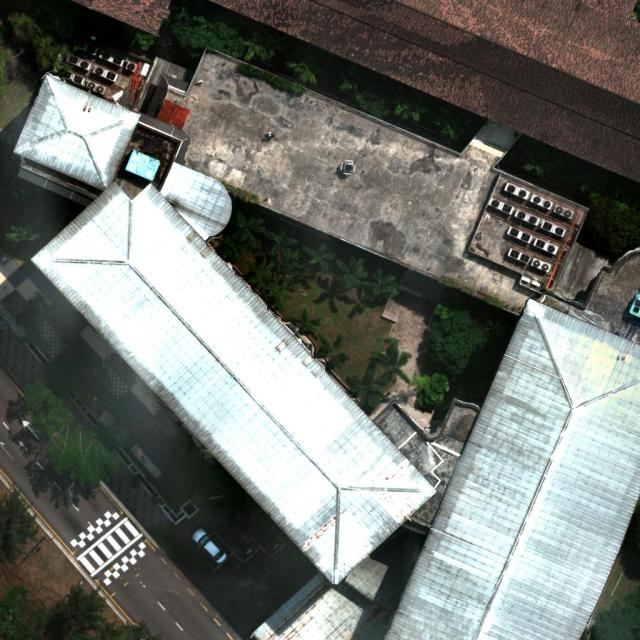Tree: (24, 378, 124, 490), (169, 0, 244, 59), (428, 304, 490, 374), (4, 186, 61, 248), (585, 196, 640, 256), (338, 61, 391, 118), (0, 583, 53, 640), (0, 488, 36, 566), (55, 583, 107, 632), (346, 366, 394, 412), (64, 618, 164, 640), (369, 338, 412, 386), (389, 82, 432, 124), (285, 43, 325, 88), (230, 209, 266, 250), (434, 106, 476, 140), (314, 332, 350, 370), (415, 372, 453, 407), (31, 31, 65, 70), (1, 158, 32, 200), (522, 138, 554, 178), (236, 31, 272, 64), (554, 146, 586, 182), (334, 258, 370, 290), (5, 11, 43, 41), (362, 268, 399, 298), (610, 177, 640, 213), (282, 307, 322, 334), (576, 164, 611, 193), (266, 226, 299, 256), (303, 243, 337, 271), (246, 256, 276, 285), (264, 281, 292, 312), (476, 314, 511, 338), (43, 12, 75, 38), (117, 29, 155, 50), (221, 234, 247, 261)
